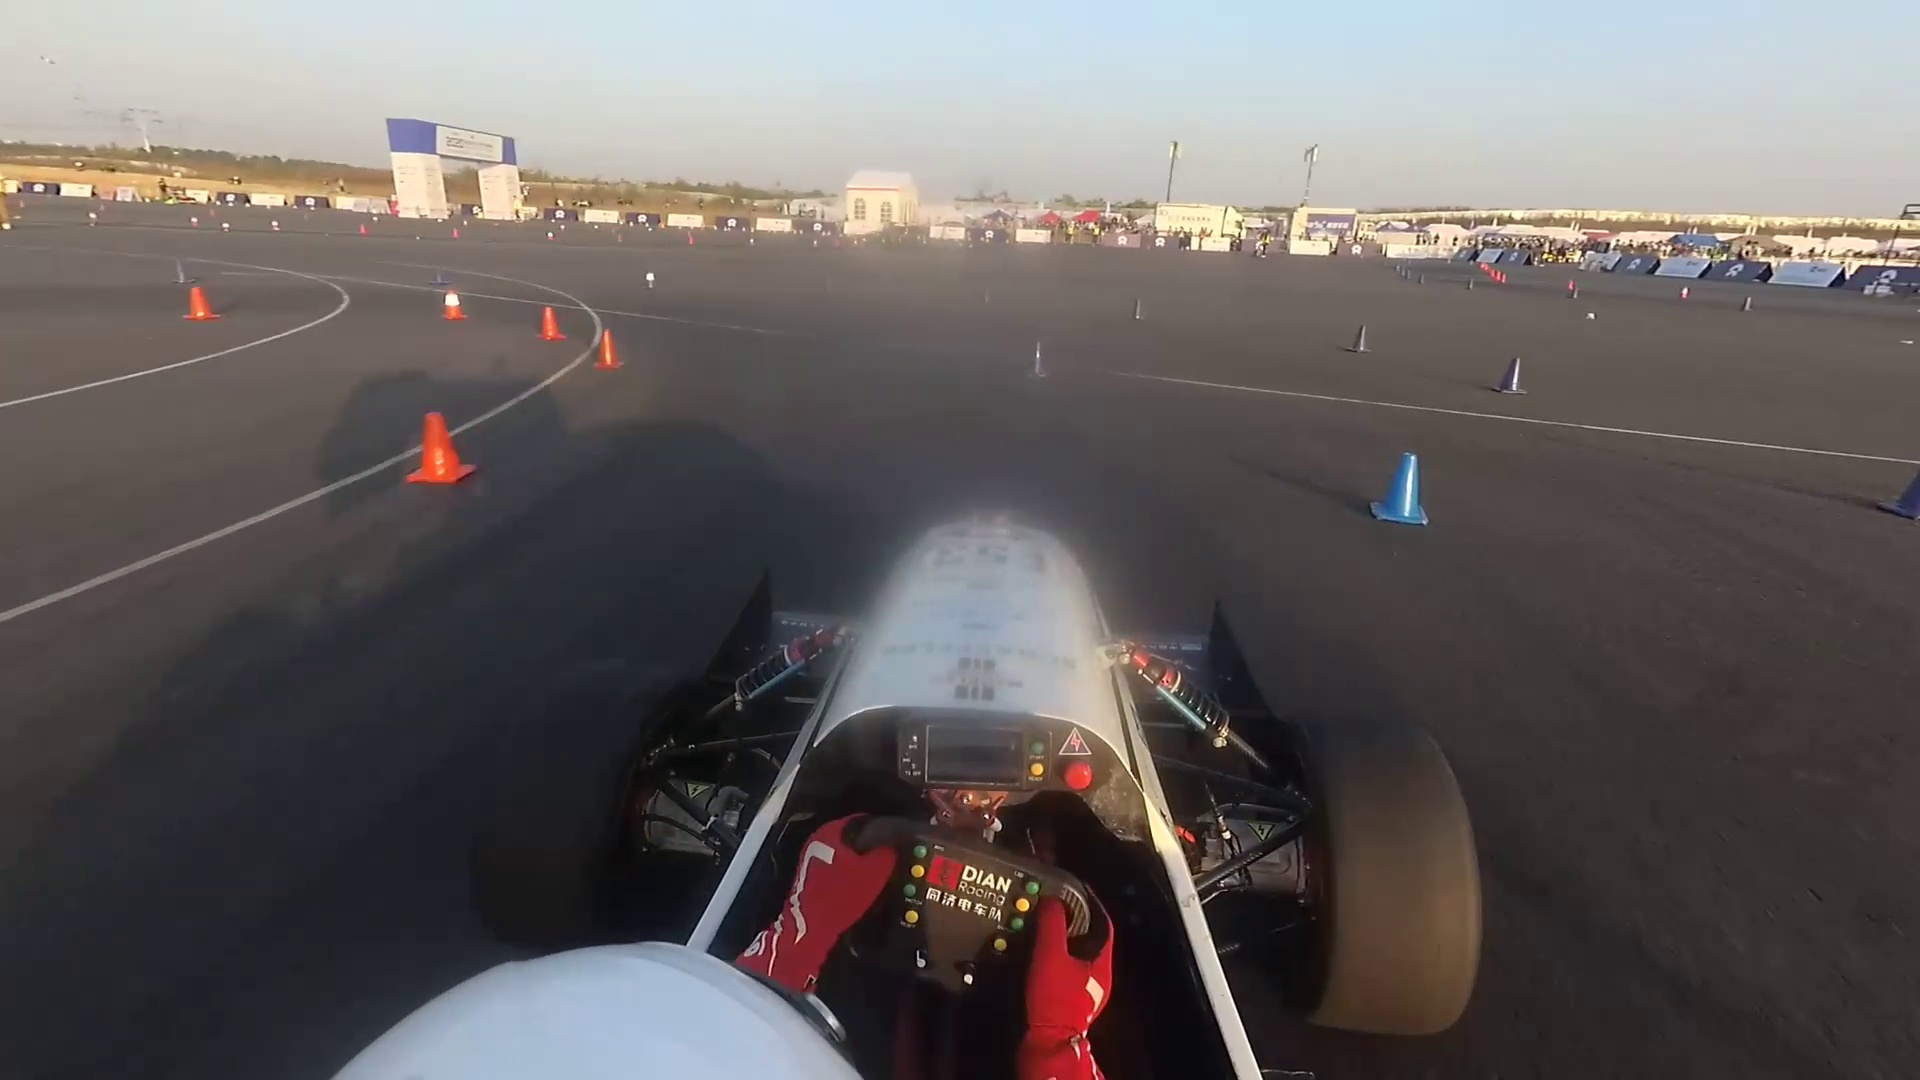blue_cone: (1360, 452, 1433, 527), (1497, 356, 1524, 405), (1021, 340, 1046, 376), (1125, 297, 1147, 324), (171, 256, 193, 284), (1352, 324, 1371, 351), (818, 276, 836, 297), (975, 284, 993, 305), (644, 270, 661, 291), (427, 269, 446, 286), (1741, 293, 1756, 313), (1571, 287, 1578, 298)
red_cone: (411, 415, 475, 491), (595, 330, 625, 373), (527, 307, 562, 342), (189, 290, 219, 322), (444, 291, 462, 320), (1679, 286, 1692, 301), (1568, 280, 1575, 291)
